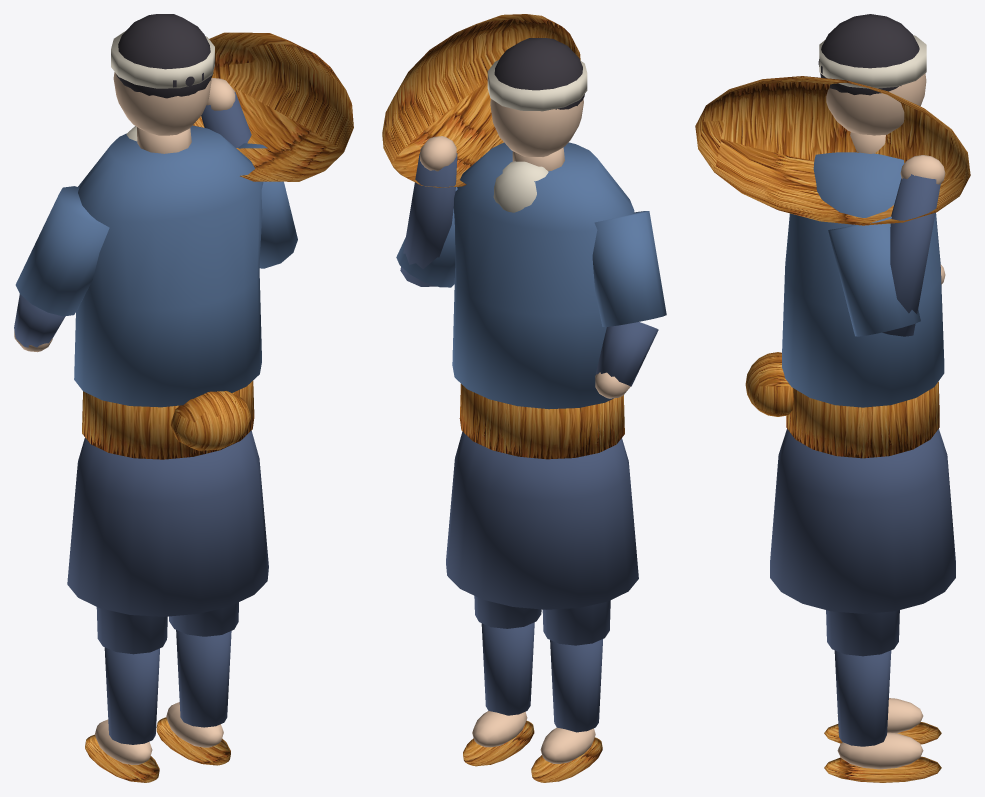
File: edo_person_porter.glb
3 renders of one model, left to right at view 1: azimuth 30°, elevation 25°; view 2: azimuth 150°, elevation 25°; view 3: azimuth 270°, elevation 25°, orthographic. The views are drawn at different scales.
Parts seen in each view (by area): view 1: person_upper, person_leg_l, person_leg_r; view 2: person_upper, person_leg_l, person_leg_r; view 3: person_upper, person_leg_r, person_leg_l.
Boxes of the visible parts, x1=… form: person_upper: x1=14, y1=14, x2=353, y2=616; person_leg_l: x1=85, y1=607, x2=167, y2=782; person_leg_r: x1=156, y1=602, x2=238, y2=765; person_upper: x1=382, y1=14, x2=666, y2=609; person_leg_l: x1=531, y1=600, x2=610, y2=782; person_leg_r: x1=463, y1=596, x2=541, y2=766; person_upper: x1=695, y1=14, x2=970, y2=613; person_leg_r: x1=824, y1=610, x2=941, y2=782; person_leg_l: x1=824, y1=698, x2=941, y2=744.
Bounding box in the file's own units: 0.6502 × 1.64 × 0.5509.
Materials: 6 (1 with a texture image).
